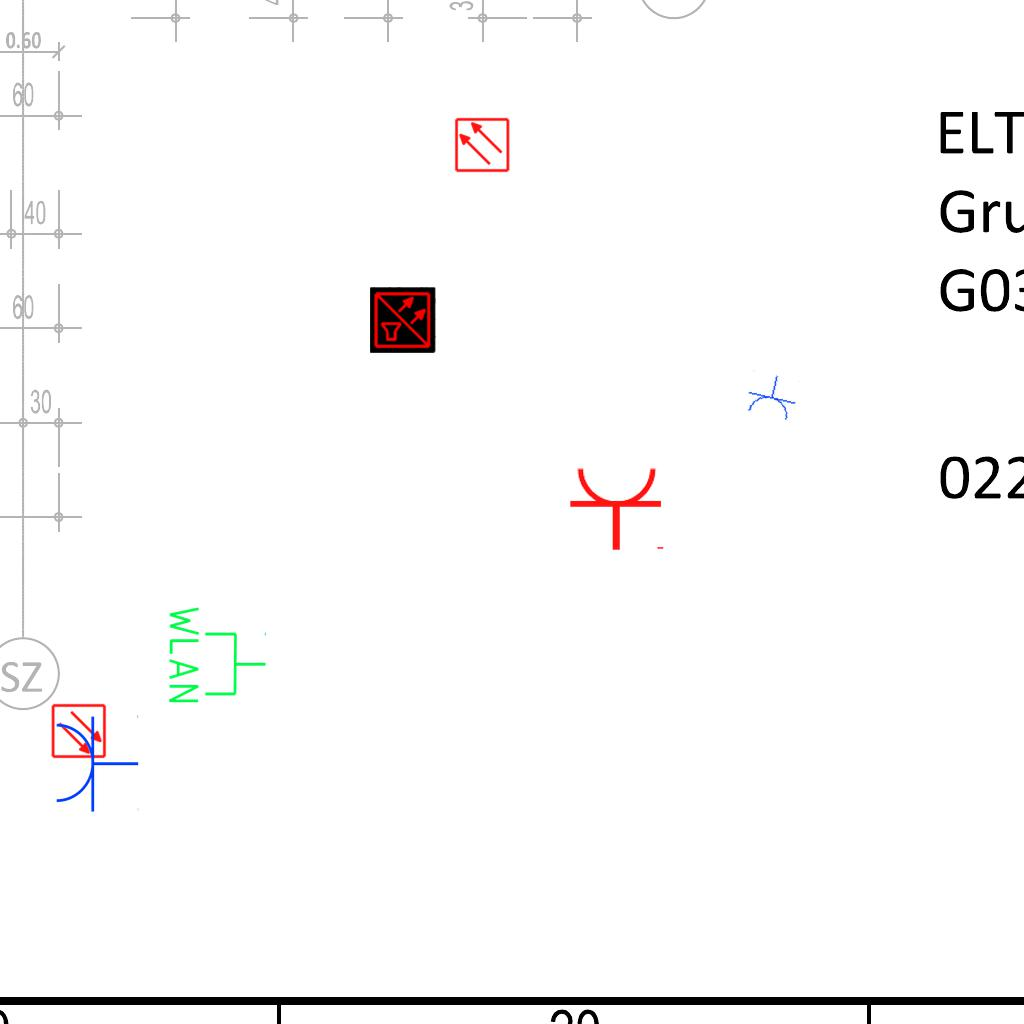OKW_Multisensormelder_(Kombination_optischer_Rauch-Kahlenmonoxid_Waerme-Melder): (370, 287, 436, 353)
RMO_Rauchmelder_optischer: (454, 117, 510, 173), (51, 703, 107, 759)
Schukosteckdose_einfach: (568, 465, 668, 552), (52, 713, 139, 813), (742, 369, 802, 424)
WLAN: (165, 602, 269, 707)
